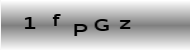1: (21, 16, 36, 30)
G: (93, 18, 110, 32)
P: (72, 22, 87, 36)
f: (50, 13, 62, 26)
z: (118, 19, 132, 30)
